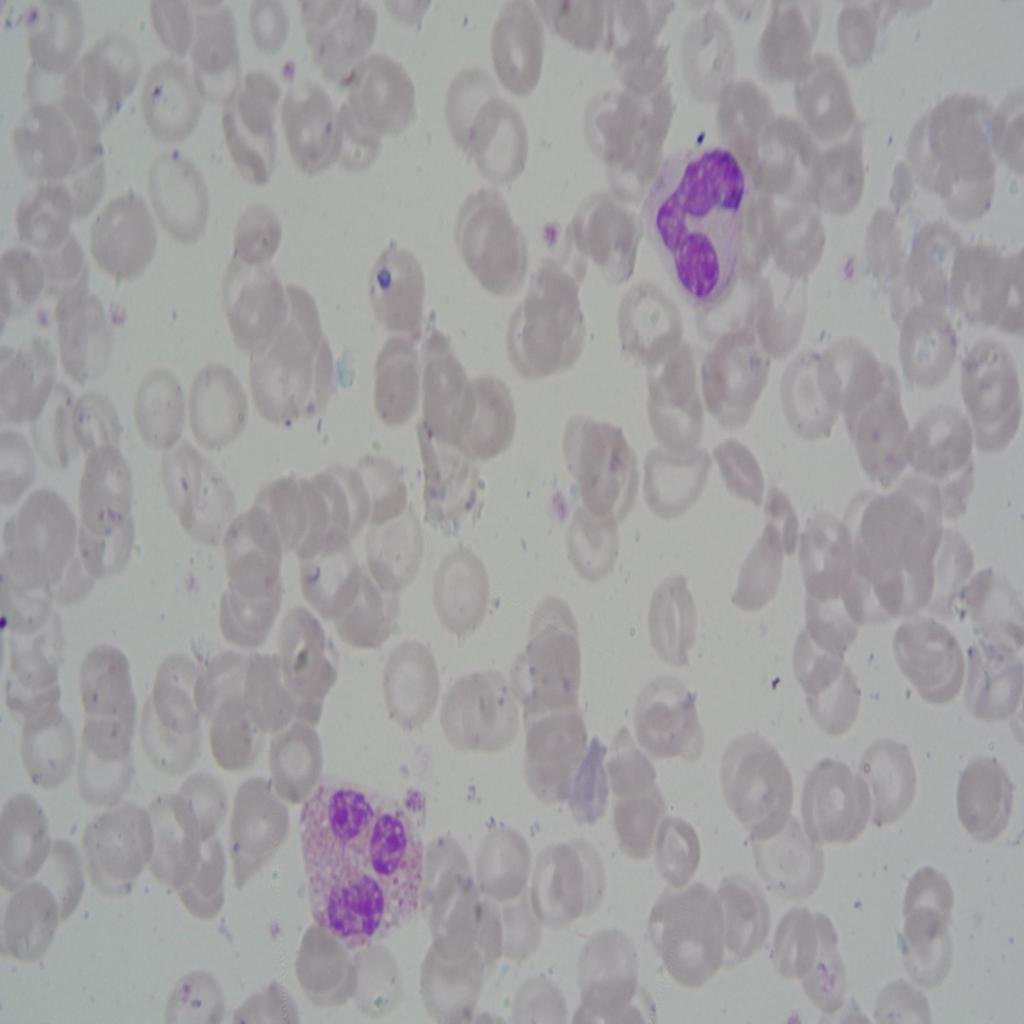Eosinofil: (296, 776, 420, 935)
Neutrofil: (640, 132, 742, 335)
Platelet: (275, 58, 309, 94), (832, 238, 853, 294), (538, 206, 556, 252), (374, 259, 392, 292)
